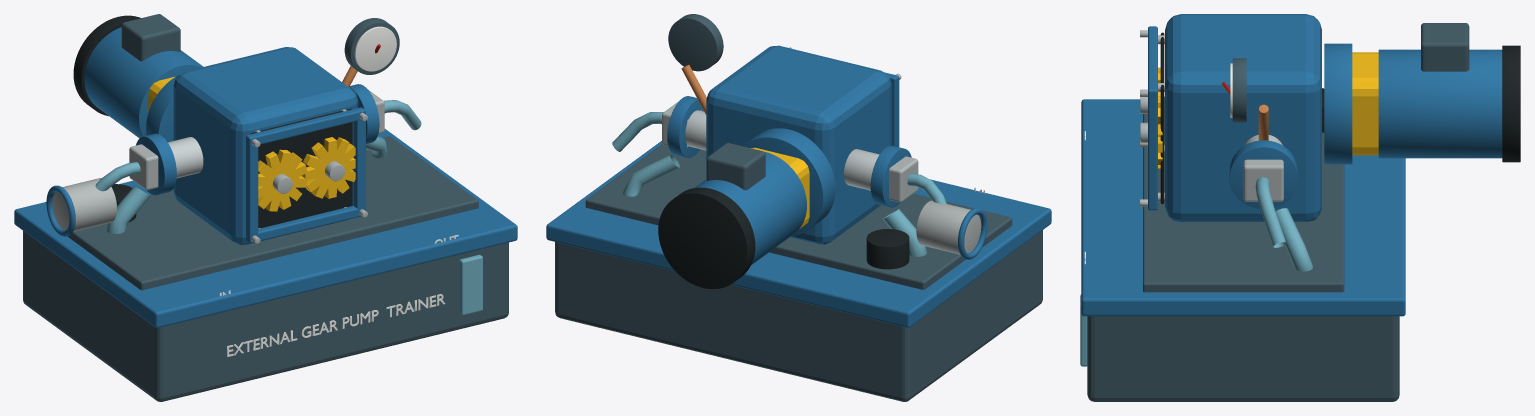
File: external_gear_pump.glb
The picture shows the model from 3 angles, left to right: view 1: azimuth 30°, elevation 25°; view 2: azimuth 150°, elevation 25°; view 3: azimuth 270°, elevation 25°; orthographic projection. The views are drawn at different scales.
Visible parts, largest first — view 1: OIL_RESERVOIR, RESERVOIR_TOP, BASE, GEAR_PUMP_BODY, PUMP_MOTOR, CUTAWAY_WINDOW, SUCTION_STRAINER, PUMP_GEAR_DRIVEN, PUMP_GEAR_DRIVE, MOTOR_TERMINAL, TRAINER_NAMEPLATE, PRESSURE_FACE (+16 smaller); view 2: OIL_RESERVOIR, GEAR_PUMP_BODY, RESERVOIR_TOP, BASE, MOTOR_FAN, PUMP_MOTOR, DRIVE_MOUNT_FLANGE, SUCTION_STRAINER, PRESSURE_GAUGE, MOTOR_TERMINAL, BREATHER_FILL, PORT_COLLAR_1 (+11 smaller); view 3: RESERVOIR_TOP, GEAR_PUMP_BODY, OIL_RESERVOIR, BASE, PUMP_MOTOR, DRIVE_MOUNT_FLANGE, COUPLING_GUARD, MOTOR_TERMINAL, MOTOR_FAN, PORT_COLLAR_1, HEX_FITTING_1, WINDOW_RIGHT (+7 smaller).
Boxes of the visible parts, <box> form: OIL_RESERVOIR: <box>23,231,508,401</box>; RESERVOIR_TOP: <box>14,129,517,327</box>; BASE: <box>68,136,478,290</box>; GEAR_PUMP_BODY: <box>173,47,358,245</box>; PUMP_MOTOR: <box>84,27,203,138</box>; CUTAWAY_WINDOW: <box>251,108,352,228</box>; SUCTION_STRAINER: <box>52,178,116,231</box>; PUMP_GEAR_DRIVEN: <box>302,137,355,198</box>; PUMP_GEAR_DRIVE: <box>258,149,307,211</box>; MOTOR_TERMINAL: <box>121,14,180,61</box>; TRAINER_NAMEPLATE: <box>227,294,445,356</box>; PRESSURE_FACE: <box>354,26,396,71</box>; OIL_RESERVOIR: <box>555,230,1042,401</box>; GEAR_PUMP_BODY: <box>706,45,891,244</box>; RESERVOIR_TOP: <box>546,141,1051,327</box>; BASE: <box>585,144,1012,289</box>; MOTOR_FAN: <box>658,187,755,289</box>; PUMP_MOTOR: <box>695,151,806,265</box>; DRIVE_MOUNT_FLANGE: <box>743,128,835,236</box>; SUCTION_STRAINER: <box>916,200,981,254</box>; PRESSURE_GAUGE: <box>668,14,723,71</box>; MOTOR_TERMINAL: <box>706,143,765,190</box>; BREATHER_FILL: <box>866,229,909,269</box>; PORT_COLLAR_1: <box>667,96,703,157</box>; RESERVOIR_TOP: <box>1081,99,1405,316</box>; GEAR_PUMP_BODY: <box>1165,14,1321,221</box>; OIL_RESERVOIR: <box>1087,316,1399,401</box>; BASE: <box>1143,96,1344,292</box>; PUMP_MOTOR: <box>1378,49,1502,158</box>; DRIVE_MOUNT_FLANGE: <box>1324,43,1352,164</box>; COUPLING_GUARD: <box>1352,52,1378,155</box>; MOTOR_TERMINAL: <box>1421,23,1469,71</box>; MOTOR_FAN: <box>1502,45,1520,162</box>; PORT_COLLAR_1: <box>1229,140,1297,208</box>; HEX_FITTING_1: <box>1243,159,1283,201</box>; WINDOW_RIGHT: <box>1148,86,1157,207</box>.
Size of the model in its own units: 2.43 by 1.66 by 2.19.
